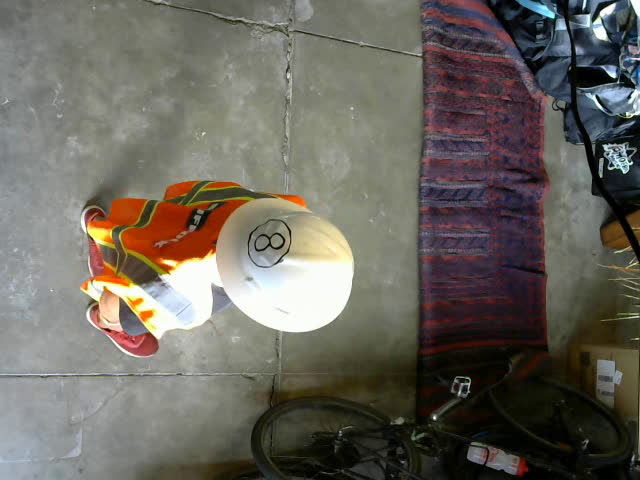eight: (247, 218, 293, 267)
